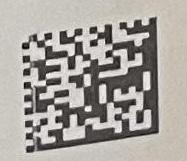datamatrix: (23, 18, 160, 154)
